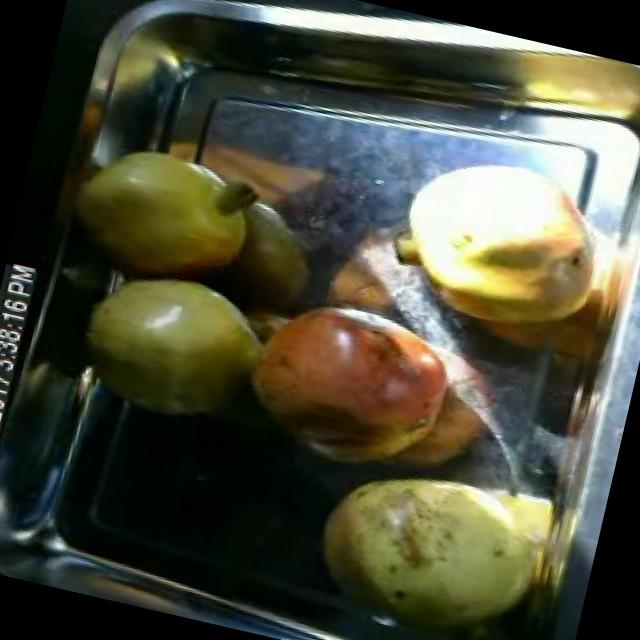fruit: (358, 122, 636, 364), (216, 260, 484, 490), (39, 117, 282, 306), (56, 246, 282, 444)
